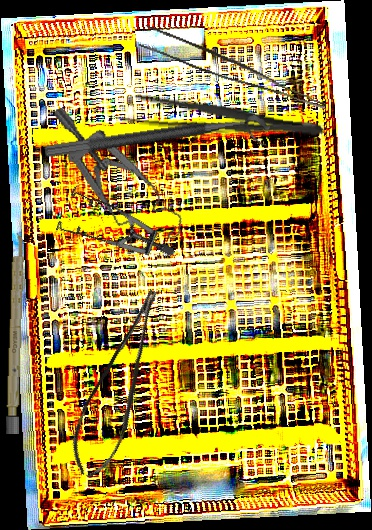Dressing Forceps: (115, 92, 327, 147)
Fixation Ring: (43, 112, 274, 177)
Micro Scissor: (55, 285, 191, 485)
Scalpel Handle: (5, 232, 26, 435)
Speculum: (52, 84, 188, 267), (42, 161, 176, 302)
Tissue Forceps: (137, 24, 333, 110)
